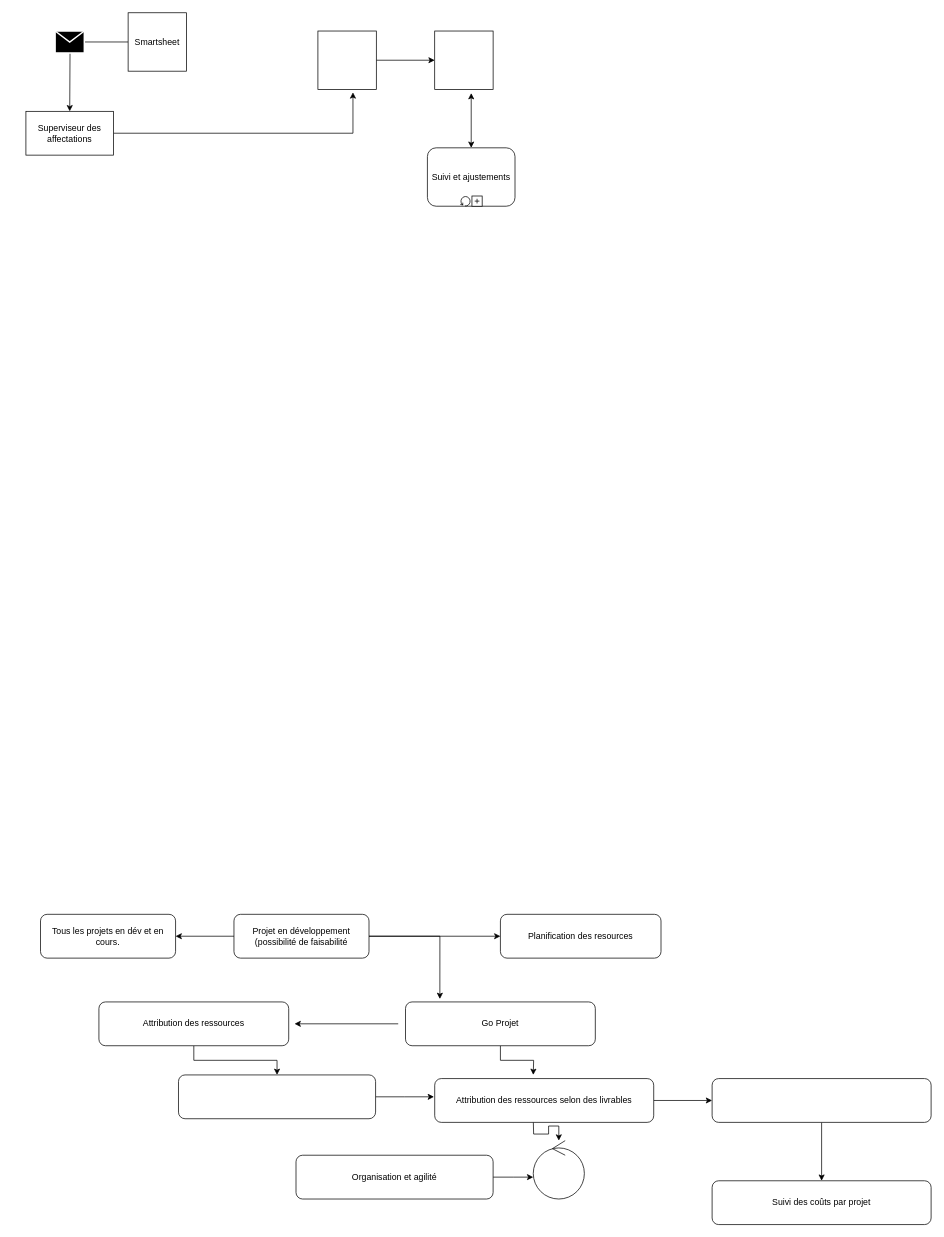
The diagram is 944 pixels wide and 1237 high, and some of its shapes have lost their labels. Here are the shapes that lost their labels. From the top down, the box of each, then its label:
(317, 30, 376, 89): QFQ / !0K feet
(434, 30, 493, 89): Attribution
(178, 1074, 376, 1119): Embauche de pigistes
(711, 1078, 931, 1122): Time tracking par employés / projets
(533, 1140, 584, 1199): BNF
